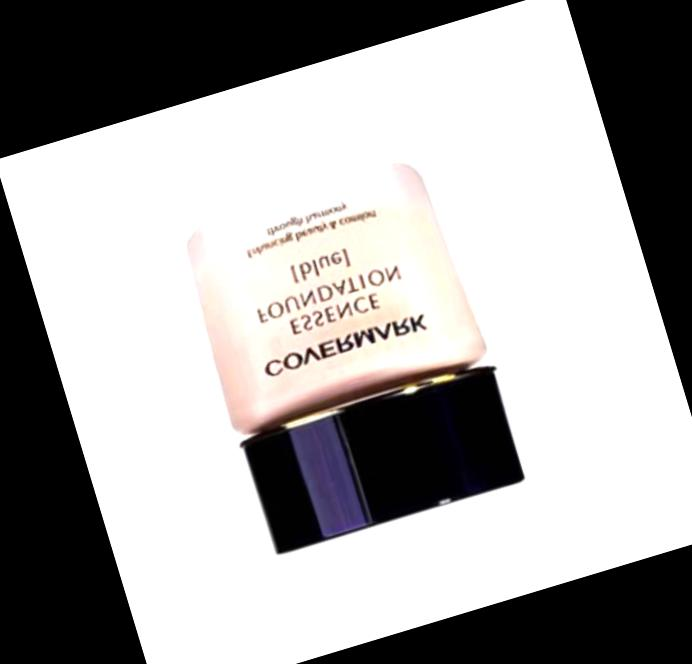cosmetic: (170, 148, 530, 557)
